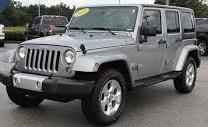SUV: (1, 6, 201, 125)
